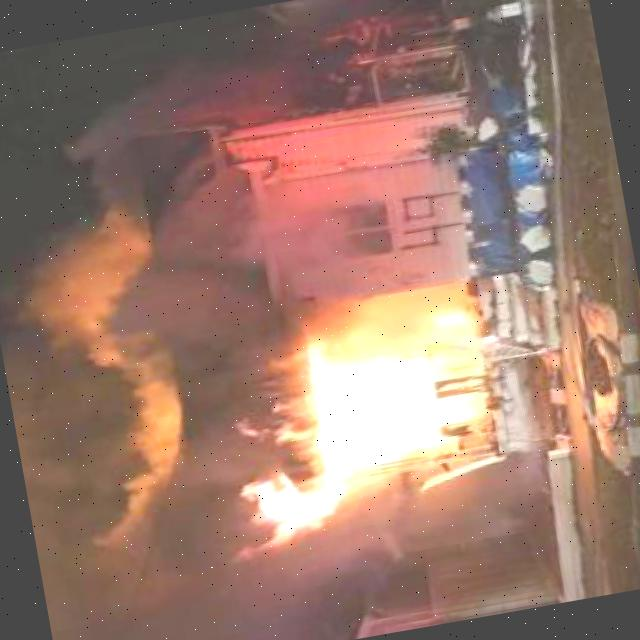fire: (238, 318, 503, 485), (220, 466, 356, 554)
